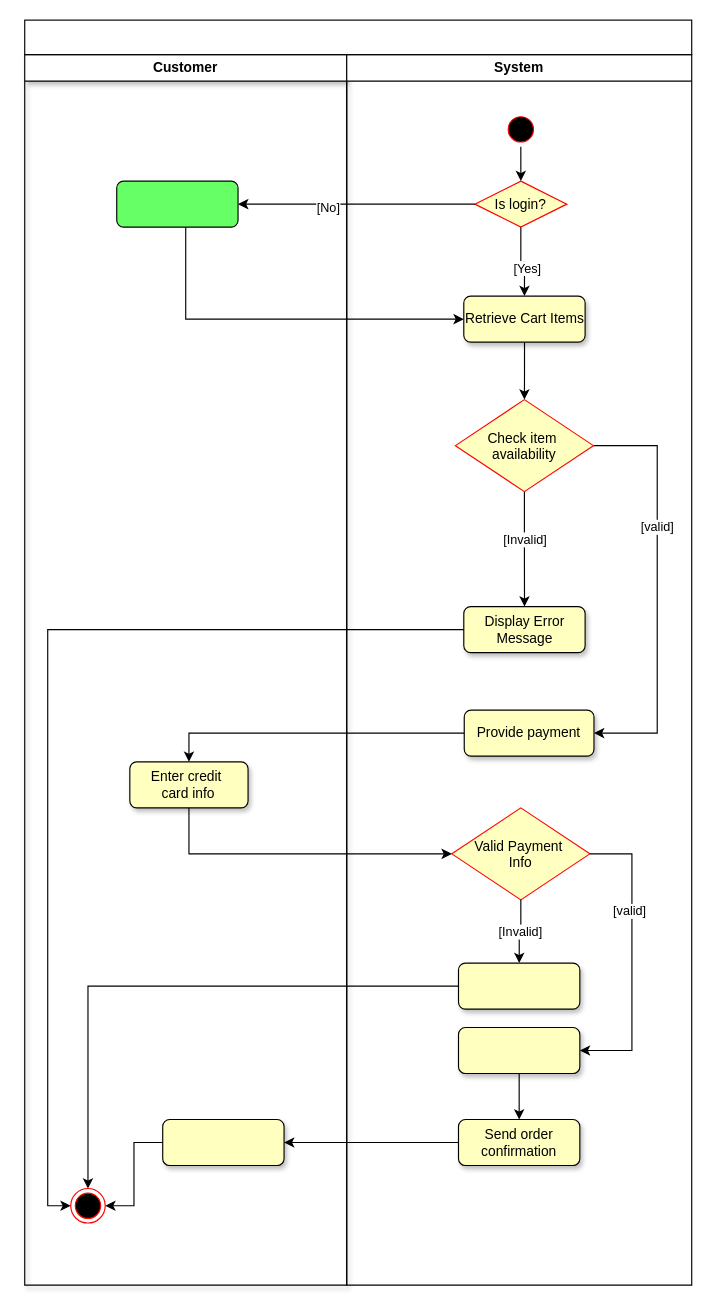
Image size: 712x1313. Some labels were removed from this diagram. The centre of each missing label's shape, as x and y in pixels:
Display Payment Error Message: the point at 520,987
Login: the point at 177,203
Place Order: the point at 358,37
Receive confirmation: the point at 224,1144
Update Inventory: the point at 520,1052
